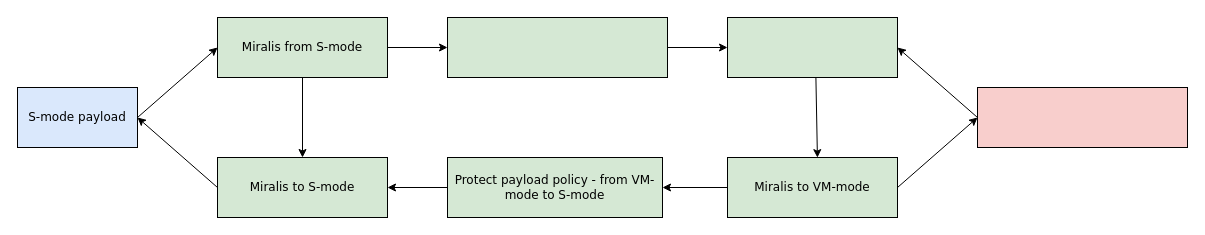
This 1205x235 diagram has some shape labels left out. Here are the shapes that lost their labels. From the top down, the box of each, then its label:
(446, 16, 668, 78): Protect payload policy - from S-mode to VM-mode
(726, 16, 898, 78): Miralis from VM-mode
(976, 86, 1188, 148): Untrusted code - Firmware
